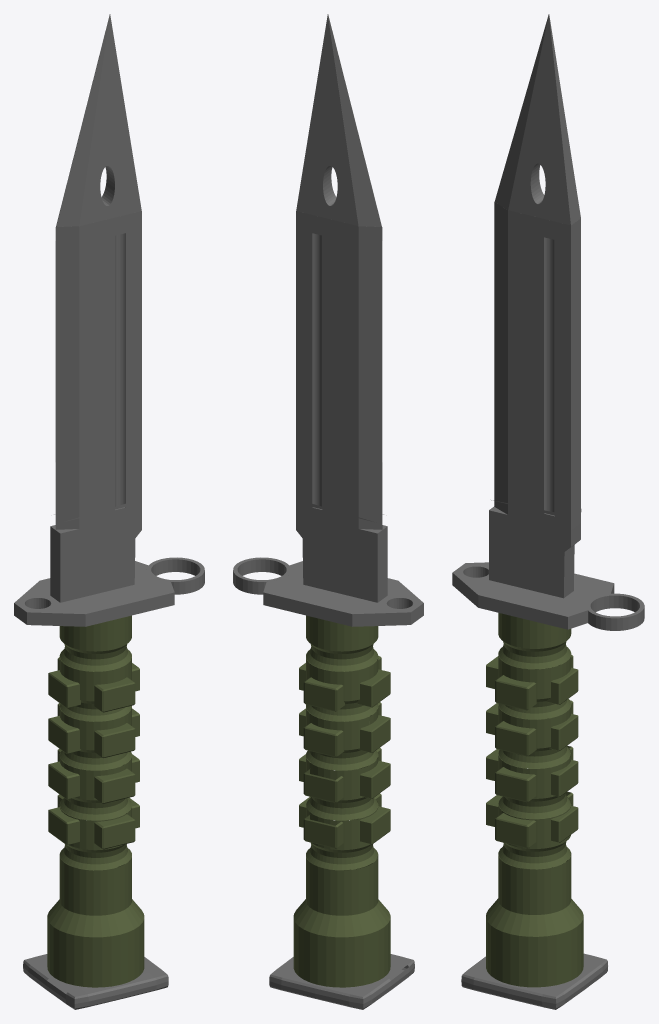
Rendered from PavlovPK_Knife.fbx.
3 views of the same model, side by side, from view 1: azimuth 30°, elevation 25°; view 2: azimuth 150°, elevation 25°; view 3: azimuth 330°, elevation 25° (orthographic).
Visible parts, largest first — view 1: Cube.001; view 2: Cube.001; view 3: Cube.001.
Part boxes in pixels (box(x1,y1,x2,y2)): Cube.001: box(14, 14, 204, 1009); Cube.001: box(233, 14, 423, 1009); Cube.001: box(452, 14, 644, 1009).
Size of the model in its own units: 225 by 1145 by 117.
